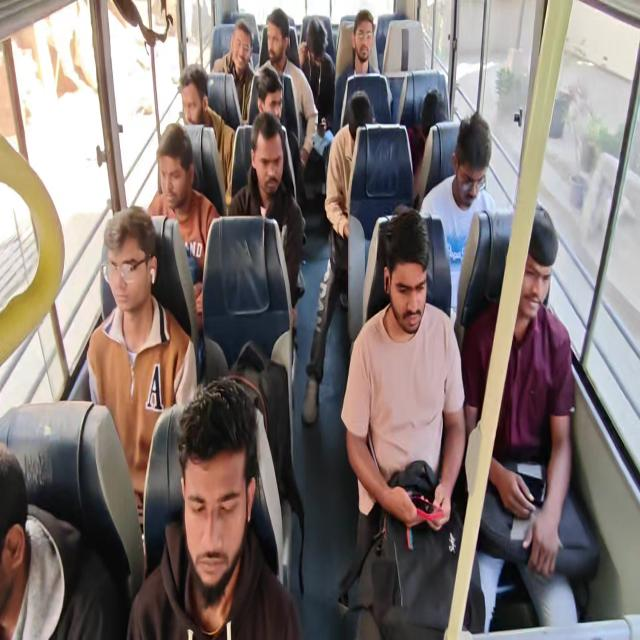person: (183, 410, 254, 586), (101, 225, 150, 318), (0, 457, 27, 594), (388, 246, 429, 333), (515, 236, 553, 316), (146, 140, 188, 212), (250, 127, 283, 203), (173, 74, 210, 131), (454, 136, 481, 213), (340, 105, 375, 160), (346, 19, 376, 76), (418, 90, 448, 137), (255, 77, 280, 124), (306, 19, 326, 71), (262, 15, 282, 66), (230, 32, 250, 75)
